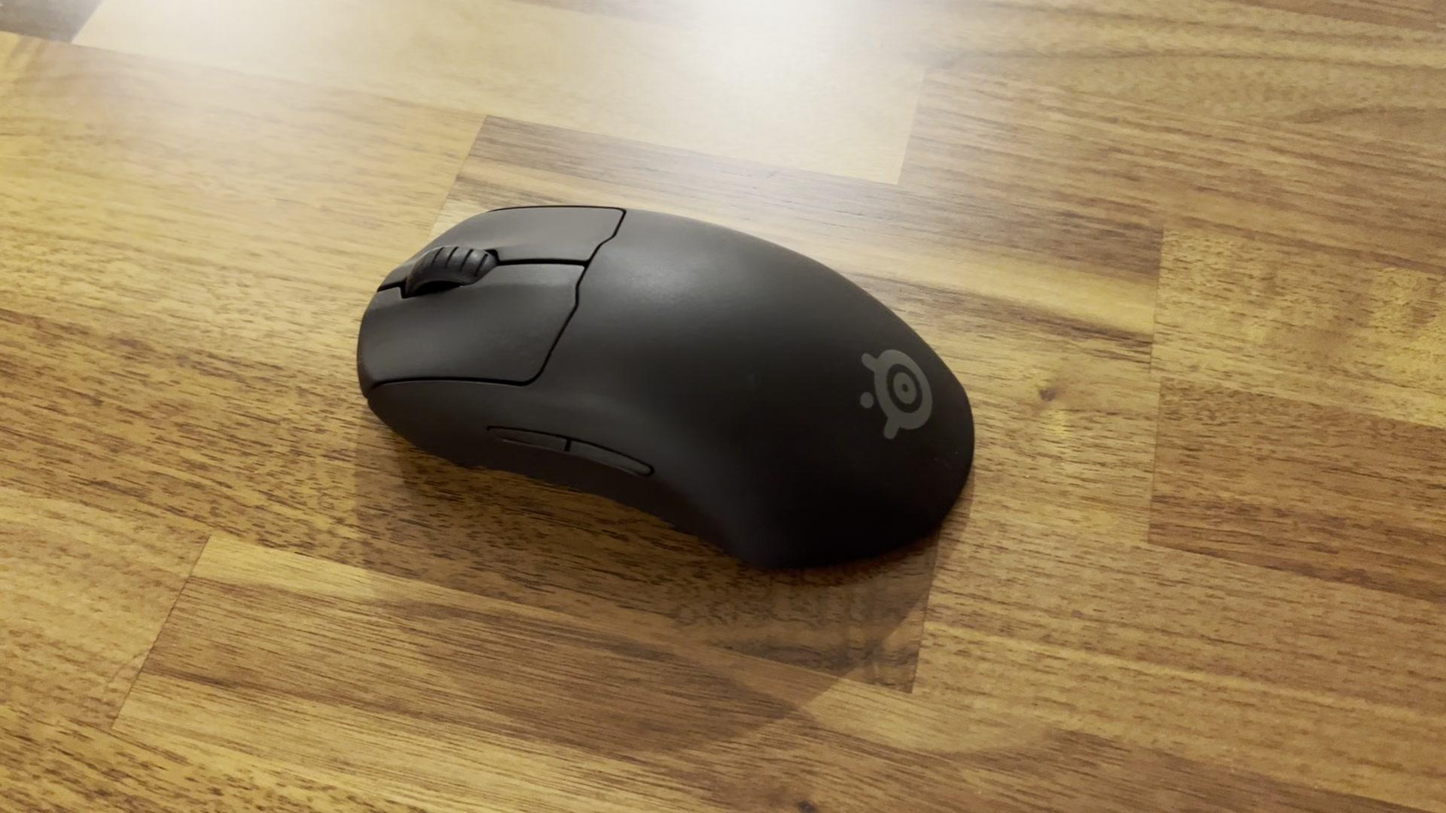steel-series: (353, 194, 980, 587)
